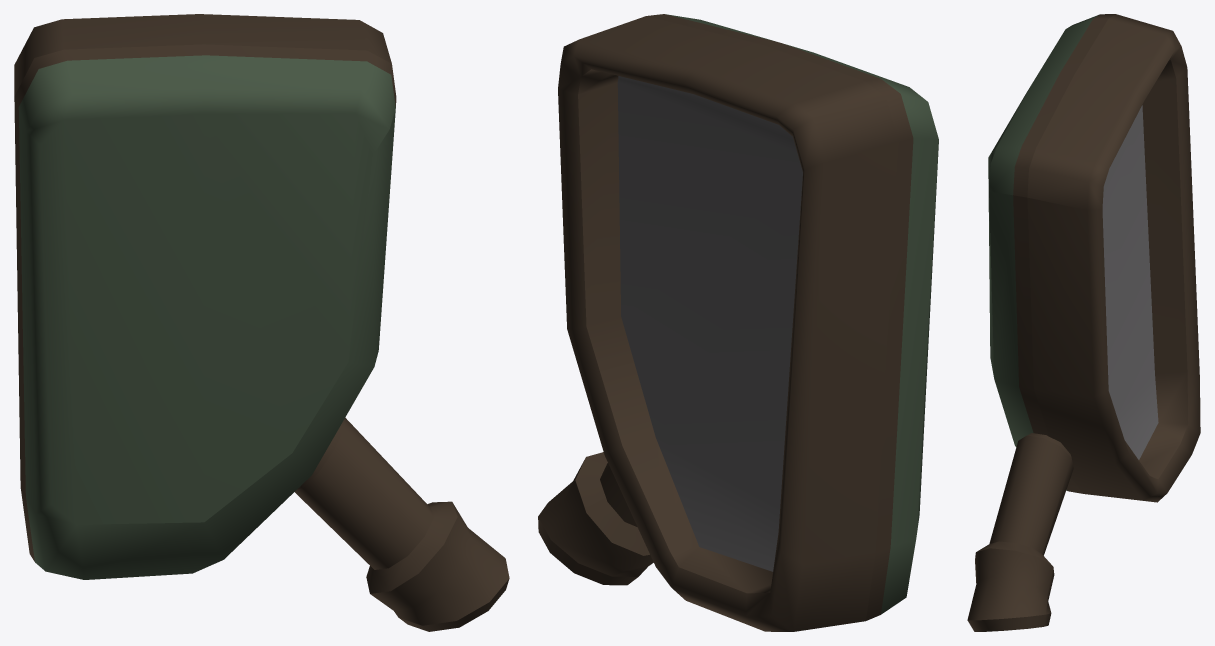
Rendered from rightmirror.fbx.
3 views of the same model, side by side, from view 1: azimuth 30°, elevation 25°; view 2: azimuth 150°, elevation 25°; view 3: azimuth 270°, elevation 25° (orthographic). The views are drawn at different scales.
Parts seen in each view (by area): view 1: node_id331, node_id333; view 2: node_id333, node_id335, node_id331; view 3: node_id333, node_id335, node_id331.
Boxes of the visible parts, <box> form: node_id331: <box>18,55,395,579</box>; node_id333: <box>14,14,509,631</box>; node_id333: <box>538,14,913,631</box>; node_id335: <box>617,76,802,571</box>; node_id331: <box>666,14,938,614</box>; node_id333: <box>967,14,1200,631</box>; node_id335: <box>1102,105,1158,459</box>; node_id331: <box>988,14,1099,490</box>.
Bounding box in the file's own units: 0.064 × 0.0857 × 0.0368.
Materials: 3 (2 with a texture image).
